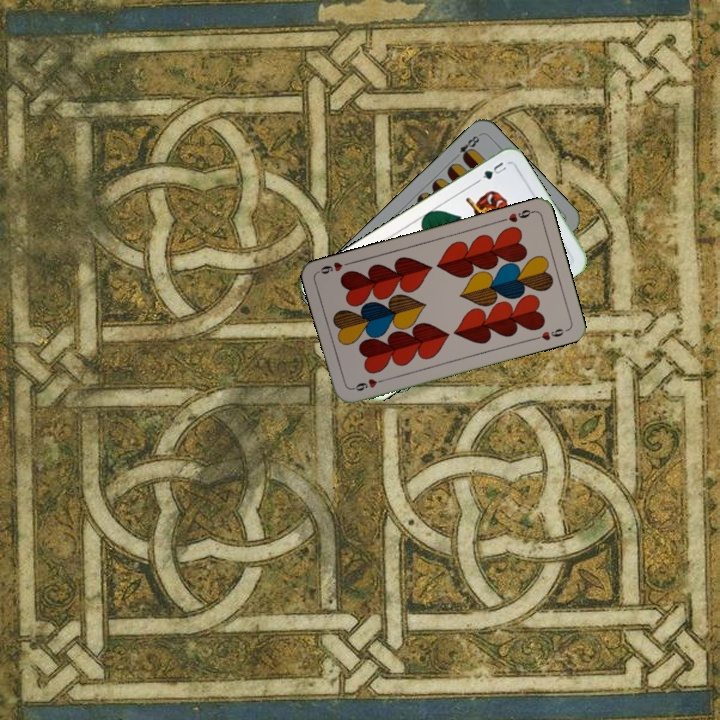E8: (450, 131, 483, 162)
GU: (478, 158, 509, 182)
H9: (497, 205, 537, 225), (348, 374, 388, 394)
